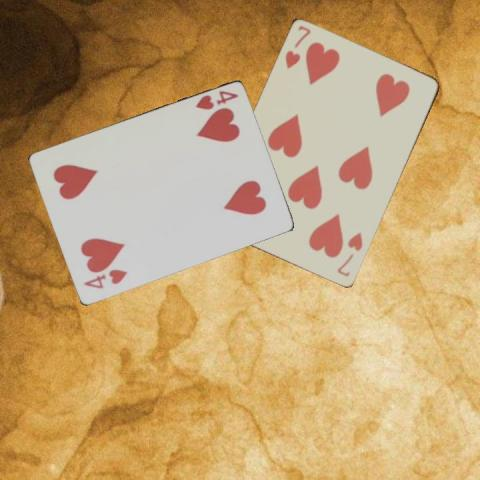4h: (80, 266, 128, 290), (192, 88, 239, 112)
7h: (334, 229, 365, 279), (282, 23, 313, 71)
